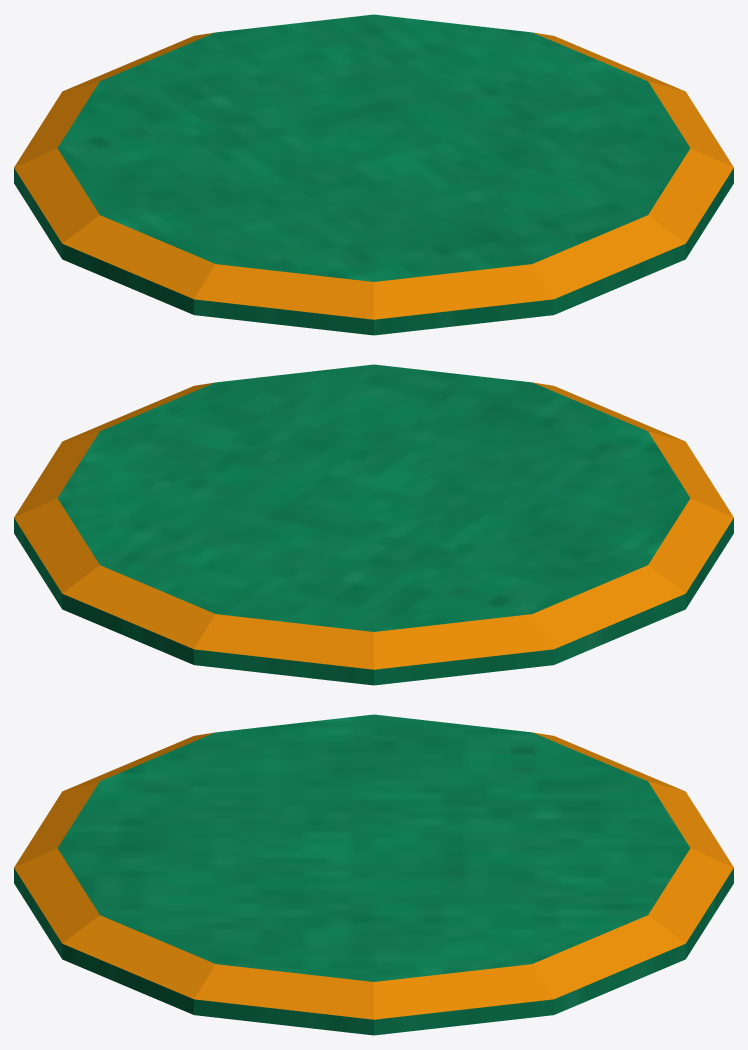
File: colored button.fbx
3 views of the same model, one above another, from view 1: azimuth 30°, elevation 25°; view 2: azimuth 150°, elevation 25°; view 3: azimuth 270°, elevation 25° (orthographic).
Visible parts, largest first — view 1: Cylinder.010; view 2: Cylinder.010; view 3: Cylinder.010.
Part boxes in pixels (x1=…): Cylinder.010: x1=14, y1=14, x2=733, y2=335; Cylinder.010: x1=14, y1=364, x2=733, y2=685; Cylinder.010: x1=14, y1=714, x2=733, y2=1035.
Bounding box in the file's own units: 104 × 5.6 × 104.
2 materials, 1 textured.
